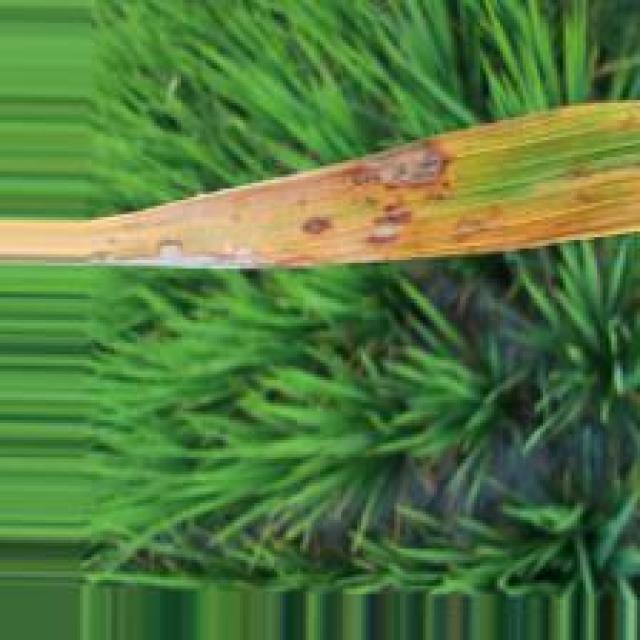Narrow_Brown_Leaf_Spot: (0, 98, 640, 272)
